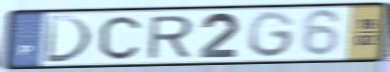2: (197, 11, 244, 61)
6: (298, 7, 347, 60)
C: (97, 14, 144, 61)
D: (41, 13, 94, 64)
G: (246, 9, 297, 60)
R: (145, 13, 196, 60)
